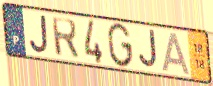4: (83, 18, 104, 67)
A: (161, 31, 192, 77)
G: (107, 21, 134, 69)
J: (137, 28, 160, 70), (28, 14, 50, 55)
R: (50, 16, 81, 61)
